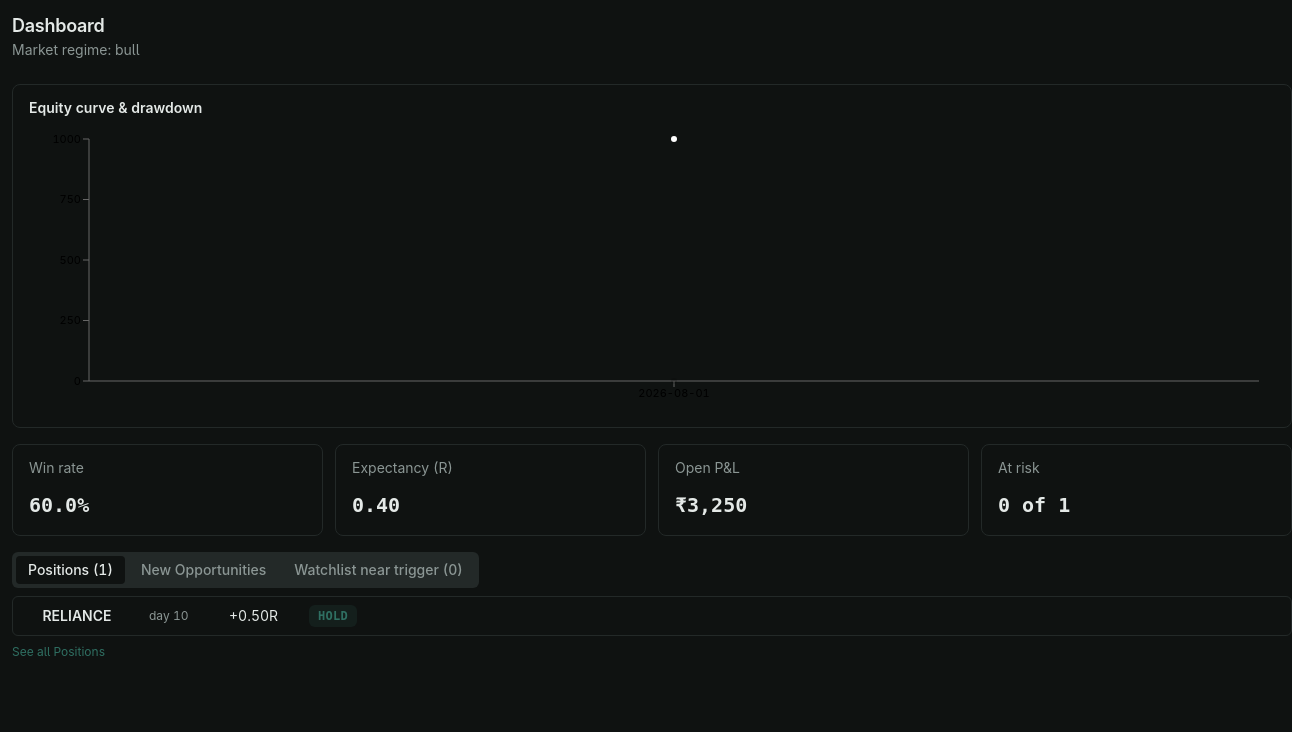
Test case: Dashboard screen › switching to the opportunities tab previews new signals
Expected: the button "RELIANCE" is shown, [21,606,133,626]
Click the tab "New Opportunities": (204, 570) [129,556,278,584]
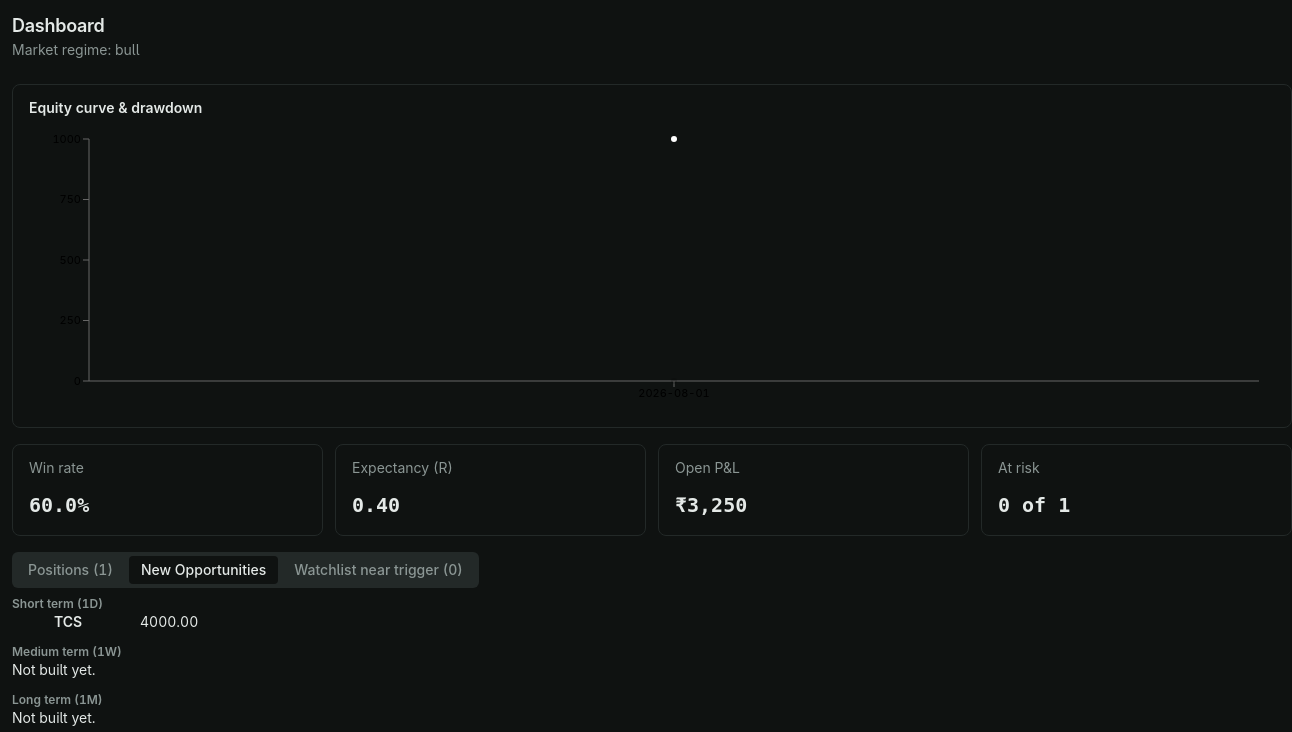
Expected: the button "TCS" is shown, [12,612,124,632]
